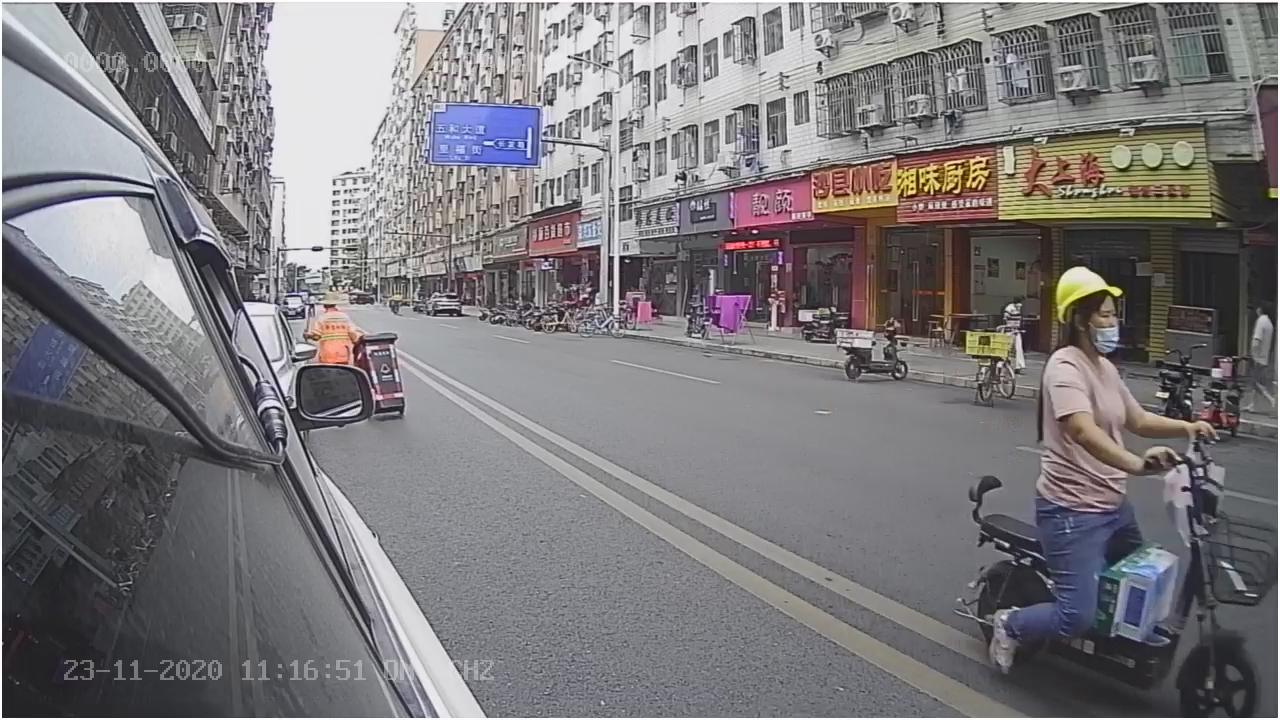person: (1031, 263, 1217, 470)
